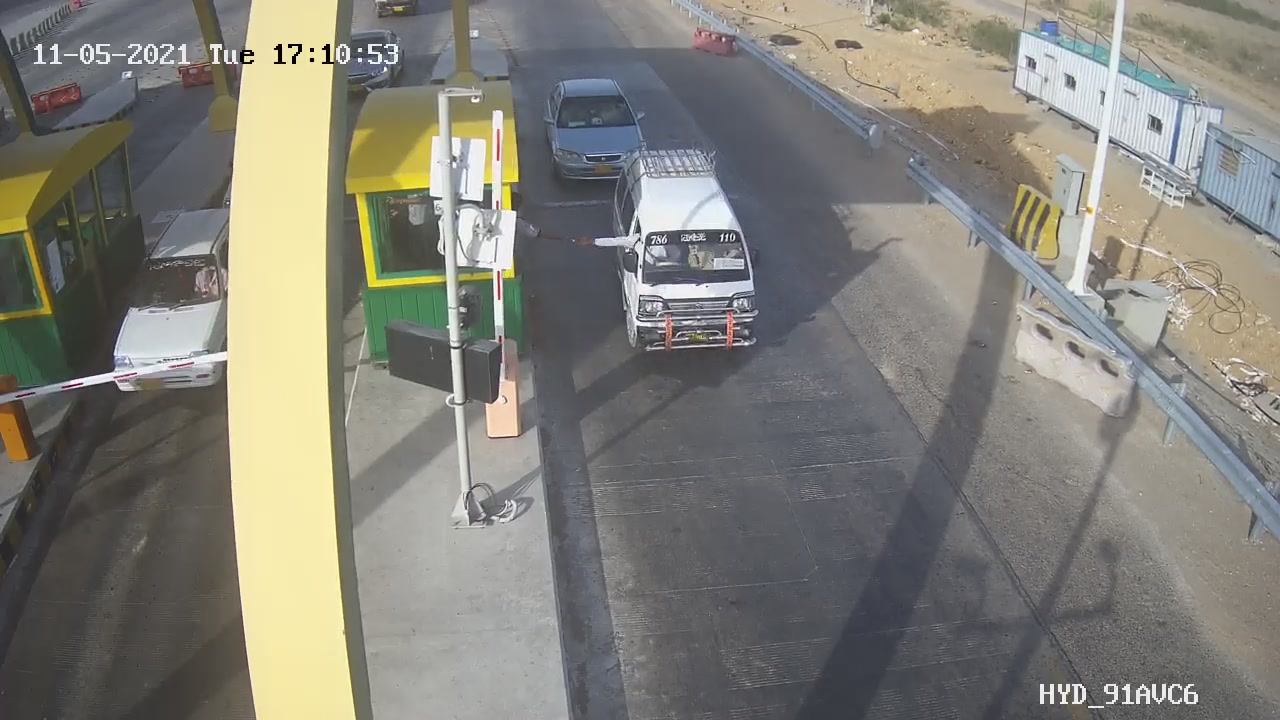F1: (591, 134, 783, 375), (533, 61, 668, 198)
